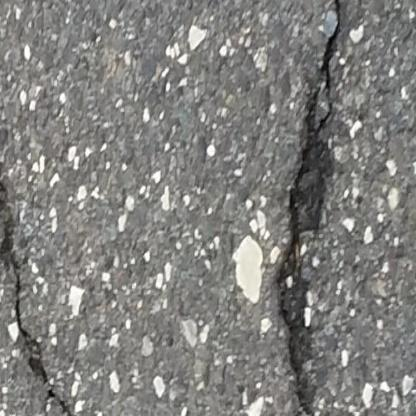Cracks: (0, 0, 98, 416), (273, 0, 359, 416)
